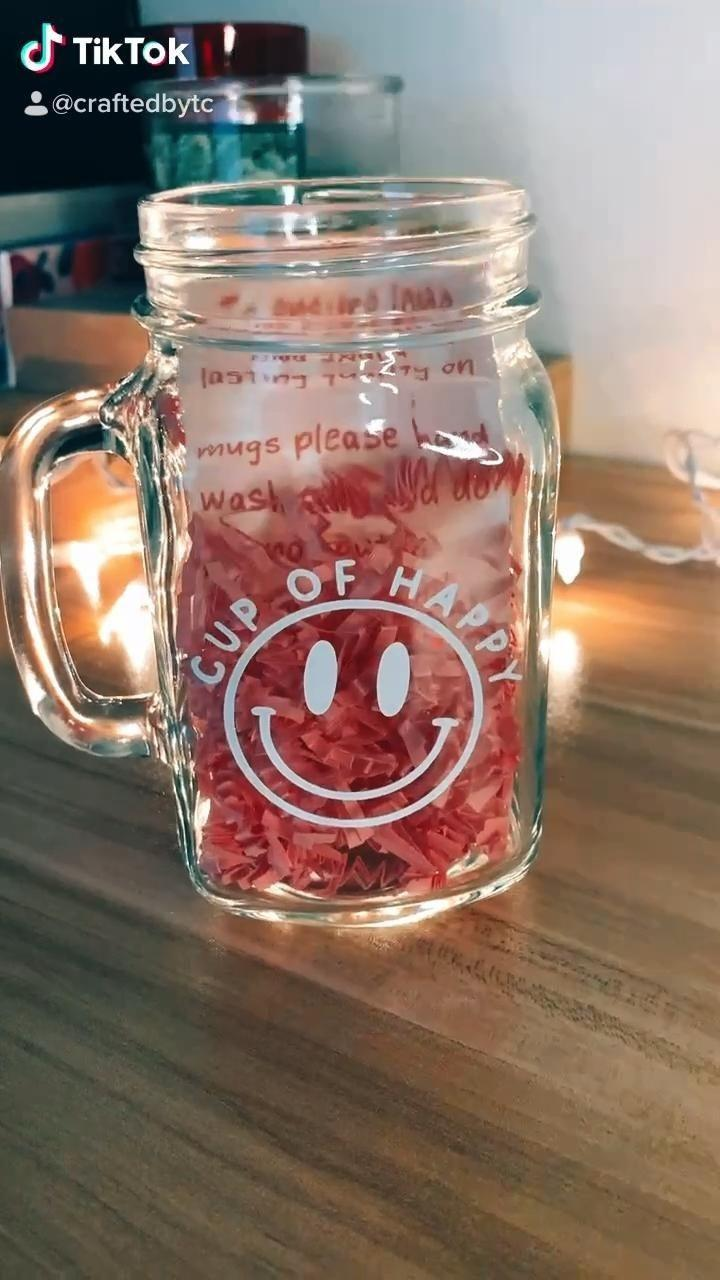glass-mug: (0, 163, 571, 943)
